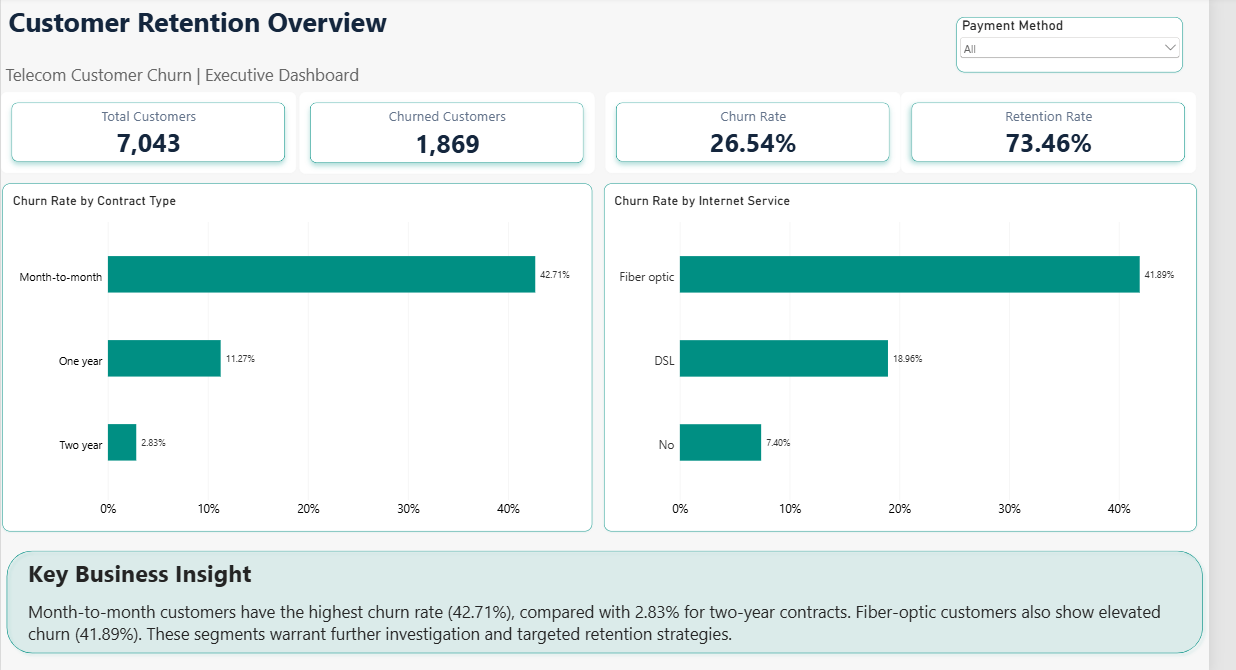

Layout of this report page (visuals, bound fields, positions):
{"tool":"powerbi","page":{"name":"Executive Overview","canvas":[1920,1080],"ordinal":0},"visuals":[{"type":"shape","box":[0,873.2,1920.7,181.3],"z":0},{"type":"cardVisual","fields":{"Data":["Customers.Total Customers"]},"box":[0,152.7,469,128.8],"z":1000},{"type":"cardVisual","fields":{"Data":["Customers.Churned Customers"]},"box":[474.8,152.7,469,130],"z":2000},{"type":"cardVisual","fields":{"Data":["Customers.Churn Rate"]},"box":[961.5,152.7,469,128.8],"z":3000},{"type":"cardVisual","fields":{"Data":["Customers.Retention Rate"]},"box":[1431.5,152.7,469,128.8],"z":4000},{"type":"clusteredBarChart","title":"Churn Rate by Contract Type","fields":{"Category":["Customers.Contract"],"Y":["Customers.Churn Rate"]},"box":[6.7,297.9,937.7,553.3],"z":5000},{"type":"clusteredBarChart","title":"Churn Rate by Internet Service","fields":{"Category":["Customers.InternetService"],"Y":["Customers.Churn Rate"]},"box":[959.1,298.2,942.4,553.5],"z":6000},{"type":"textbox","box":[0,11.9,1880.1,140.8],"z":7000},{"type":"textbox","box":[42.9,892.3,1837.2,140.8],"z":8000},{"type":"slicer","fields":{"Values":["Customers.PaymentMethod"]},"box":[1520.2,34.6,360.3,88.3],"z":9000}]}

Visuals, with their boxes on the page's 1920x1080 design canvas (x1, y1, x2, y2). These are canvas units, not pixel positions in the 1236x670 screenshot, which may show the page scaled, cropped or inside an application window:
shape: [x1=0, y1=873, x2=1921, y2=1054]
cardVisual - Customers.Total Customers: [x1=0, y1=153, x2=469, y2=282]
cardVisual - Customers.Churned Customers: [x1=475, y1=153, x2=944, y2=283]
cardVisual - Customers.Churn Rate: [x1=962, y1=153, x2=1430, y2=282]
cardVisual - Customers.Retention Rate: [x1=1432, y1=153, x2=1900, y2=282]
"Churn Rate by Contract Type" clusteredBarChart: [x1=7, y1=298, x2=944, y2=851]
"Churn Rate by Internet Service" clusteredBarChart: [x1=959, y1=298, x2=1902, y2=852]
textbox: [x1=0, y1=12, x2=1880, y2=153]
textbox: [x1=43, y1=892, x2=1880, y2=1033]
slicer - Customers.PaymentMethod: [x1=1520, y1=35, x2=1880, y2=123]
